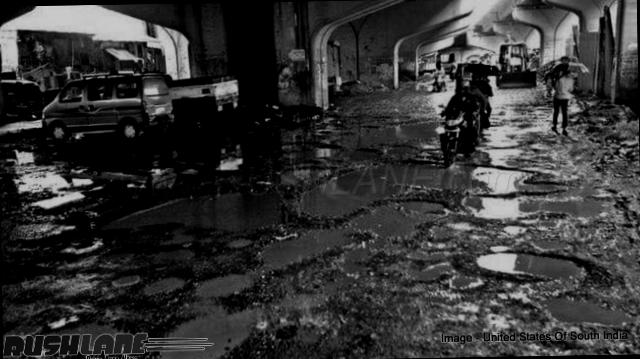Pothole: (282, 139, 622, 238), (175, 238, 386, 359), (73, 177, 304, 249), (2, 299, 146, 356), (344, 108, 478, 163), (463, 238, 586, 290), (524, 291, 630, 350), (118, 264, 192, 304)
